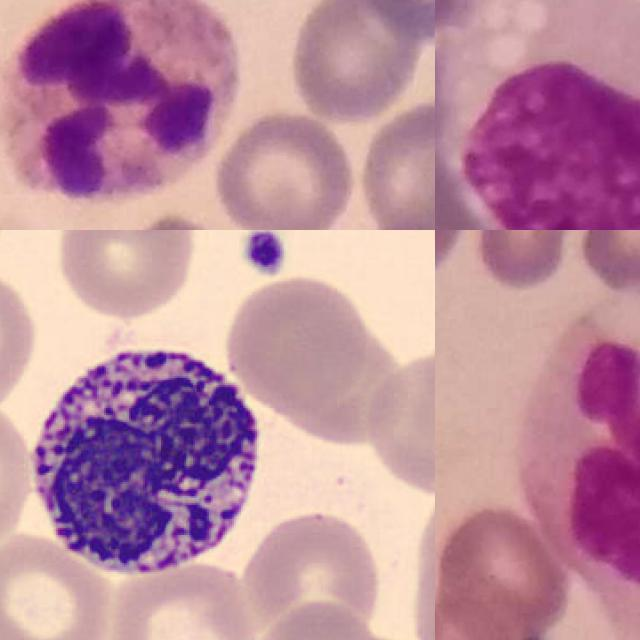Basophil: (15, 322, 273, 586)
Monocyte: (449, 0, 640, 230), (522, 293, 640, 582)
Neutrophil: (0, 0, 238, 202)
Platelets: (237, 230, 290, 279)
RBC: (221, 271, 369, 412), (237, 503, 386, 640), (100, 556, 264, 640), (52, 230, 200, 321), (0, 531, 118, 640), (358, 342, 435, 501), (0, 259, 42, 411), (237, 598, 388, 640), (0, 397, 36, 557)
